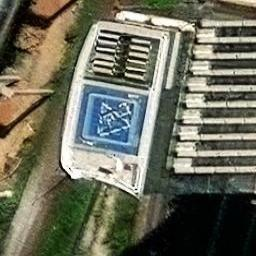heliponto: (84, 95, 138, 146)
